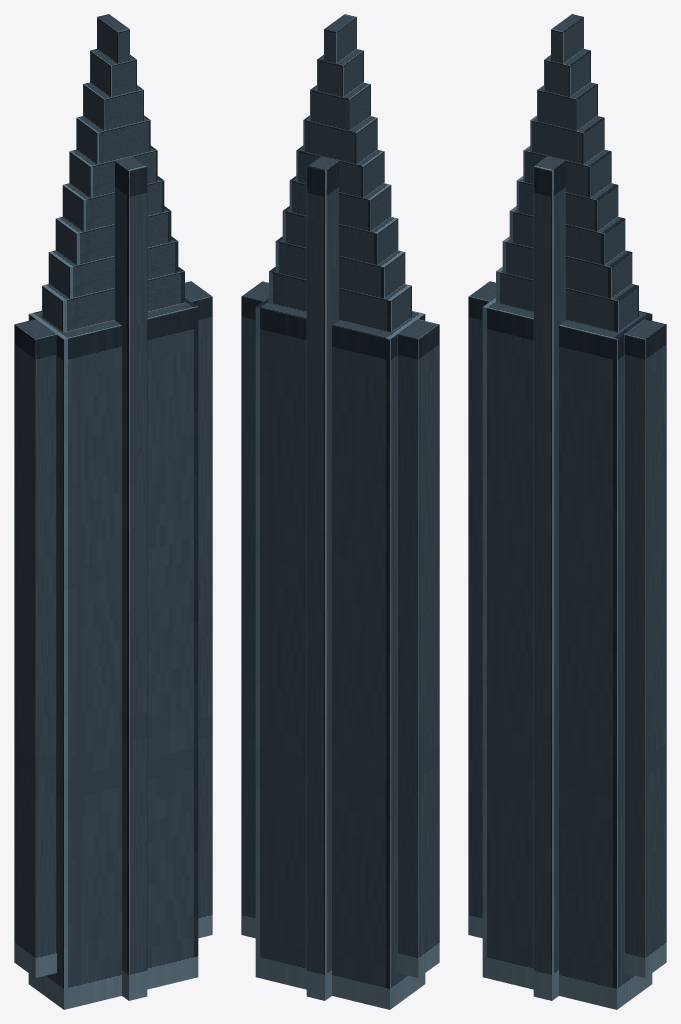
Rendered from workpiece_xuantie_flying_sword_quenched.obj.
3 views of the same model, side by side, from view 1: azimuth 30°, elevation 25°; view 2: azimuth 150°, elevation 25°; view 3: azimuth 330°, elevation 25° (orthographic).
Parts seen in each view (by area): view 1: geometry; view 2: geometry; view 3: geometry.
Boxes of the visible parts, box(x1,y1,x2,y2) form: geometry: box(14, 14, 212, 1009); geometry: box(241, 14, 439, 1009); geometry: box(468, 14, 666, 1009).
Size of the model in its own units: 0.3625 by 1.88 by 0.175.
